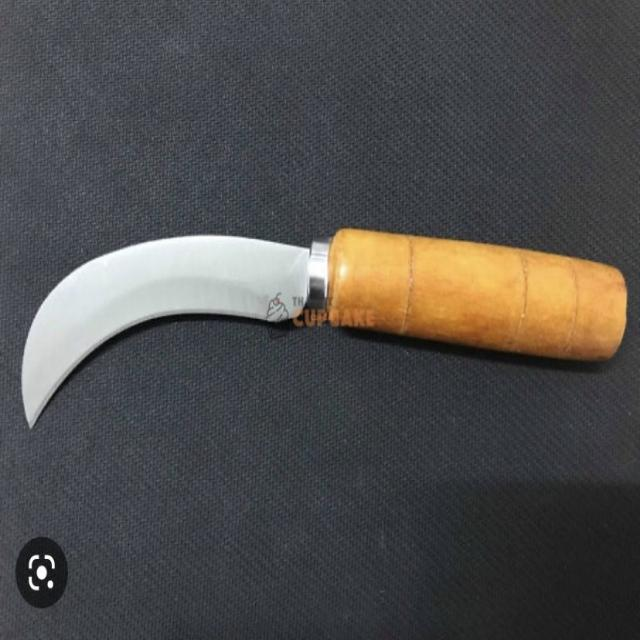Knife: (13, 221, 633, 439)
